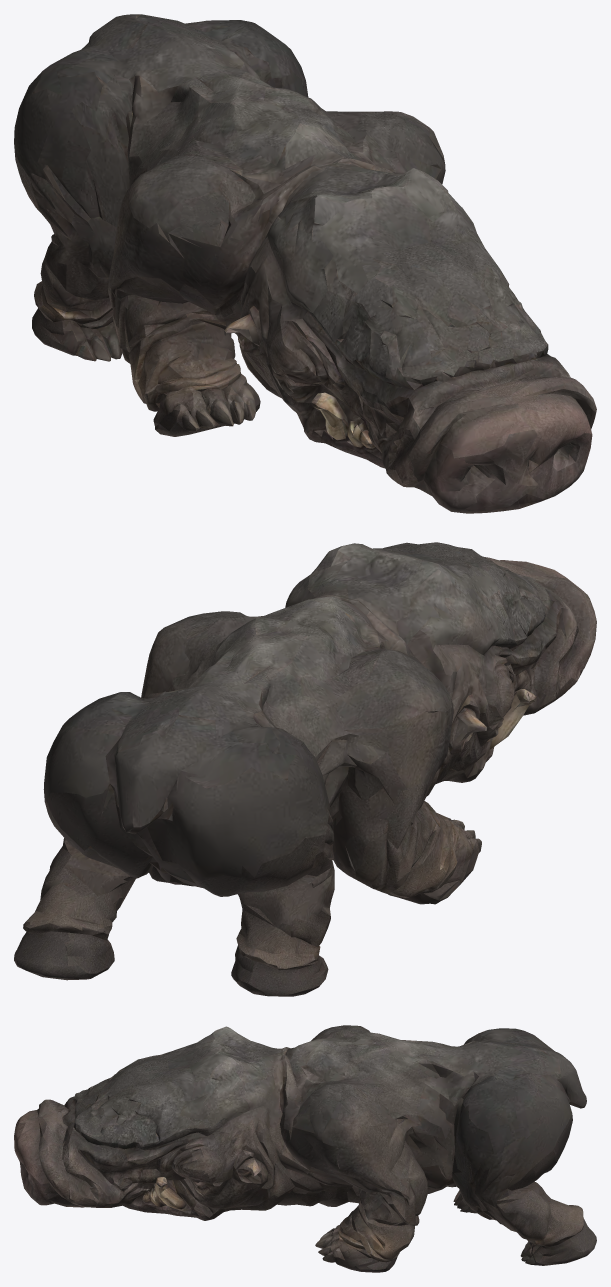
Rendered from happabore.glb.
3 views of the same model, one above another, from view 1: azimuth 30°, elevation 25°; view 2: azimuth 150°, elevation 25°; view 3: azimuth 270°, elevation 25° (orthographic). The views are drawn at different scales.
Visible parts, largest first — view 1: happabore-centred; view 2: happabore-centred; view 3: happabore-centred.
Part boxes in pixels (left/top/right/bottom): happabore-centred: left=14, top=14, right=596, bottom=513; happabore-centred: left=14, top=542, right=596, bottom=996; happabore-centred: left=14, top=1025, right=596, bottom=1272.
Size of the model in its own units: 2.01 by 1.81 by 5.
1 material, 1 textured.
